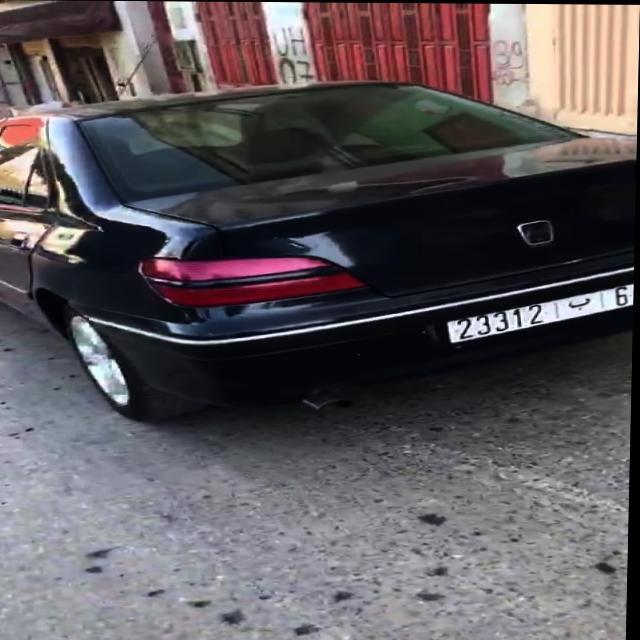License-Plate: (449, 284, 635, 342)
